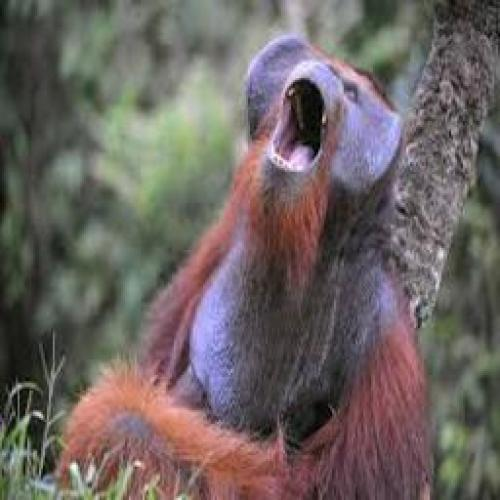orangutan-endangered: (68, 35, 430, 499)
